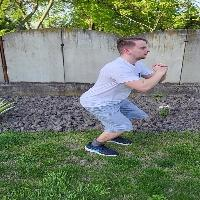squats: (69, 24, 180, 179)
